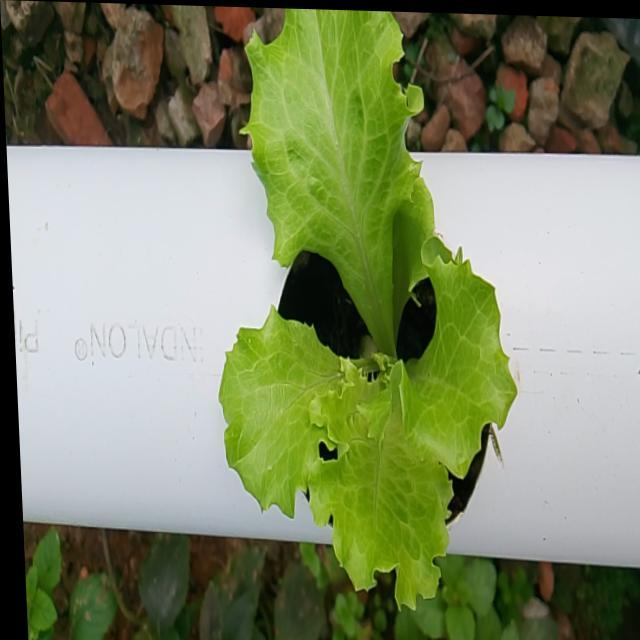Baby: (220, 8, 517, 616)
